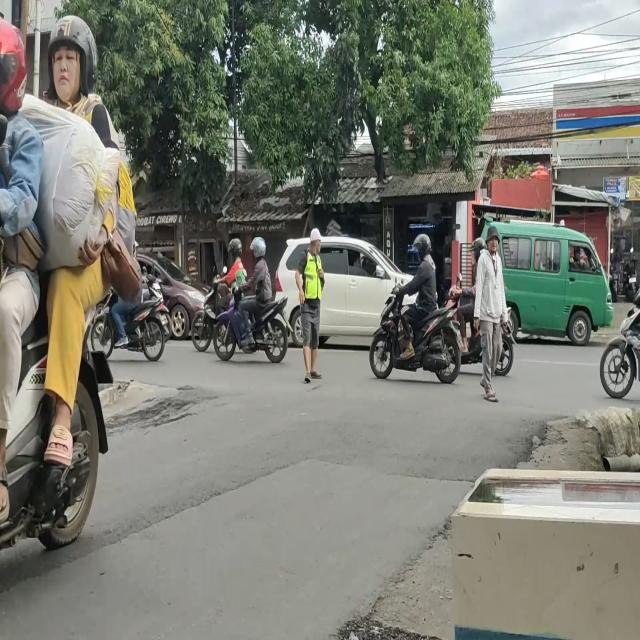helmet: (49, 19, 96, 101), (0, 14, 28, 107), (414, 236, 432, 261), (228, 235, 242, 259), (252, 238, 266, 262), (469, 236, 479, 259)
